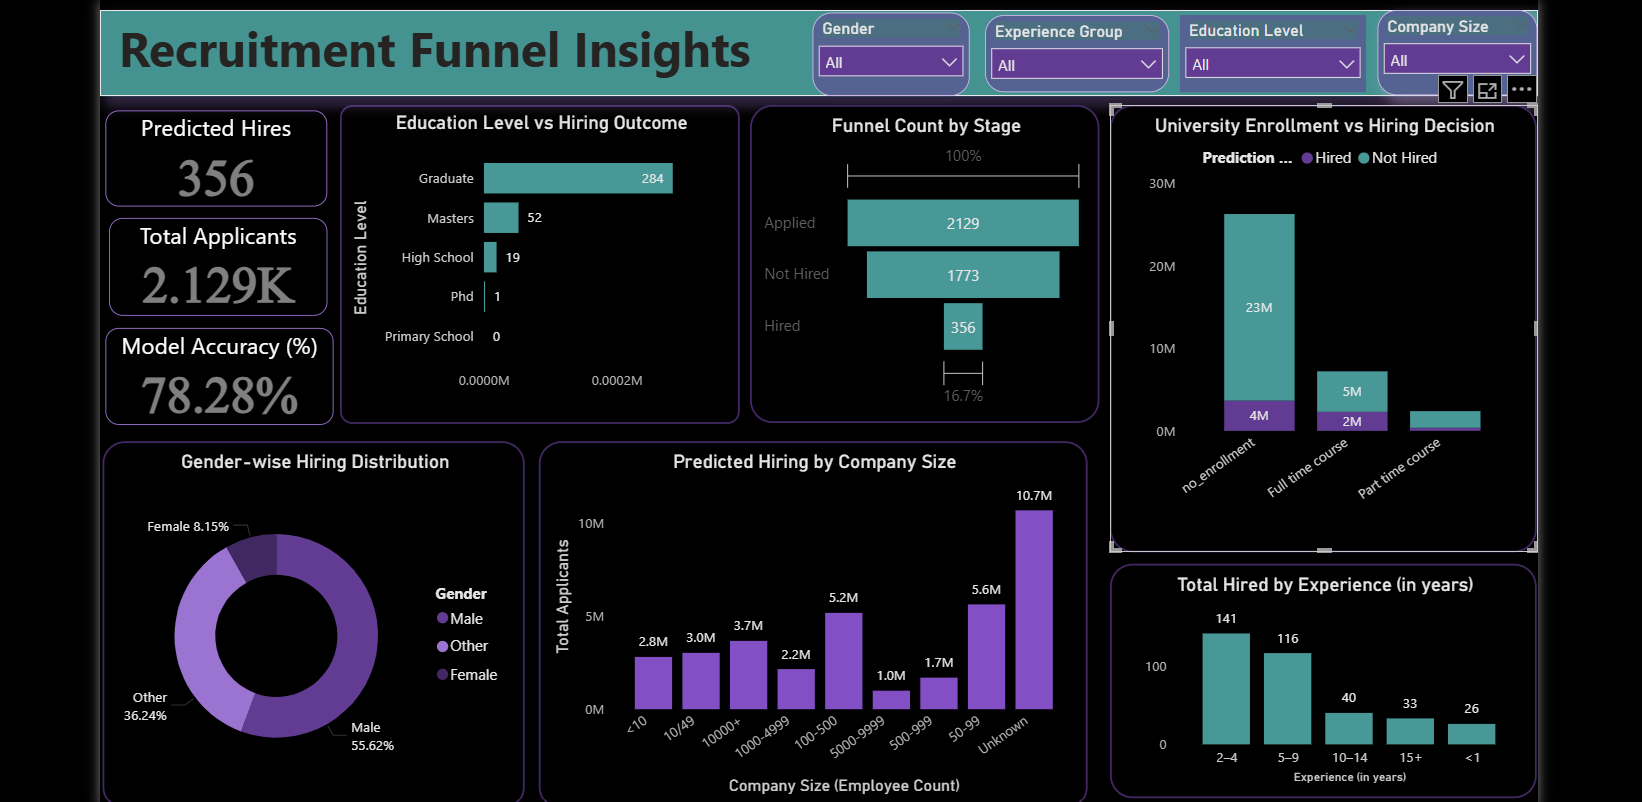

The dashboard page shown, as its layout file describes it:
{"tool":"powerbi","page":{"name":"Page 1","canvas":[1280,720],"ordinal":0},"visuals":[{"type":"cardVisual","fields":{"Data":["Count(Recruitment_Predictions.enrollee_id)"]},"box":[3,189.6,204.4,97.8],"z":0},{"type":"cardVisual","fields":{"Data":["Recruitment_Predictions.Predicted Hired Count"]},"box":[0,93.8,207.4,95.8],"z":1000},{"type":"cardVisual","fields":{"Data":["Recruitment_Predictions.Prediction Accuracy"]},"box":[0,287.4,213.3,96.8],"z":2000},{"type":"barChart","title":"Education Level vs Hiring Outcome","fields":{"Category":["Recruitment_Predictions.education_level"],"Y":["Sum(Recruitment_Predictions.Predicted_hired)"]},"box":[213.7,93.5,356.1,283.8],"z":3000},{"type":"columnChart","title":"Predicted Hiring by Company Size","fields":{"Category":["Recruitment_Predictions.company_size"],"Y":["Sum(Recruitment_Predictions.enrollee_id)"]},"box":[391.1,392.4,488.6,327.8],"z":4000},{"type":"columnChart","title":"University Enrollment vs Hiring Decision","fields":{"Category":["Recruitment_Predictions.enrolled_university"],"Y":["Sum(Recruitment_Predictions.enrollee_id)"],"Series":["Recruitment_Predictions.Prediction Status"]},"box":[900,93.7,379.7,398.7],"z":5000},{"type":"donutChart","title":"Gender-wise Hiring Distribution","fields":{"Category":["Recruitment_Predictions.gender"],"Y":["Recruitment_Predictions.Predicted Hired Count"]},"box":[2.5,392.4,375.9,327.8],"z":6000},{"type":"textbox","box":[0,8.9,1279.8,77],"z":7000},{"type":"clusteredColumnChart","fields":{"Category":["Recruitment_Predictions.Experience Group"],"Y":["Recruitment_Predictions.Predicted Hired Count"]},"box":[900,502.5,379.7,208.9],"z":8000},{"type":"slicer","fields":{"Values":["Recruitment_Predictions.Gender"]},"box":[634,10.9,140.2,74.1],"z":9000},{"type":"slicer","fields":{"Values":["Recruitment_Predictions.education_level"]},"box":[961.8,12.8,165.9,69.1],"z":10000},{"type":"slicer","fields":{"Values":["Recruitment_Predictions.Experience Group"]},"box":[788,12.8,163.9,69.1],"z":11000},{"type":"slicer","fields":{"Values":["Recruitment_Predictions.company_size"]},"box":[1137.3,8.9,142.4,75.7],"z":12000},{"type":"funnel","fields":{"Category":["Recruitment Funnel Table.Stage"],"Y":["Recruitment Funnel Table.Funnel Count"]},"box":[578.7,93.8,311.1,283.4],"z":14000}]}

Visuals, with their boxes in screenshot pixels (x1, y1, x2, y2):
cardVisual - Count(Recruitment_Predictions.enrollee_id): [left=80, top=212, right=314, bottom=324]
cardVisual - Recruitment_Predictions.Predicted Hired Count: [left=77, top=103, right=314, bottom=212]
cardVisual - Recruitment_Predictions.Prediction Accuracy: [left=77, top=324, right=320, bottom=434]
"Education Level vs Hiring Outcome" barChart: [left=321, top=102, right=727, bottom=426]
"Predicted Hiring by Company Size" columnChart: [left=523, top=444, right=1081, bottom=801]
"University Enrollment vs Hiring Decision" columnChart: [left=1104, top=103, right=1538, bottom=558]
"Gender-wise Hiring Distribution" donutChart: [left=80, top=444, right=509, bottom=801]
textbox: [left=77, top=6, right=1538, bottom=94]
clusteredColumnChart - Recruitment_Predictions.Experience Group x Recruitment_Predictions.Predicted Hired Count: [left=1104, top=569, right=1538, bottom=801]
slicer - Recruitment_Predictions.Gender: [left=801, top=8, right=961, bottom=93]
slicer - Recruitment_Predictions.education_level: [left=1175, top=10, right=1364, bottom=89]
slicer - Recruitment_Predictions.Experience Group: [left=977, top=10, right=1164, bottom=89]
slicer - Recruitment_Predictions.company_size: [left=1375, top=6, right=1538, bottom=92]
funnel - Recruitment Funnel Table.Stage x Recruitment Funnel Table.Funnel Count: [left=738, top=103, right=1093, bottom=426]
